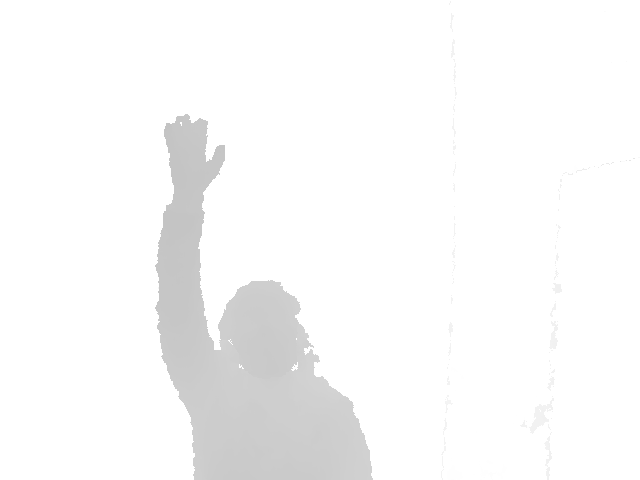hand: (163, 114, 227, 194)
head: (216, 279, 321, 384)
person: (154, 114, 375, 480)
